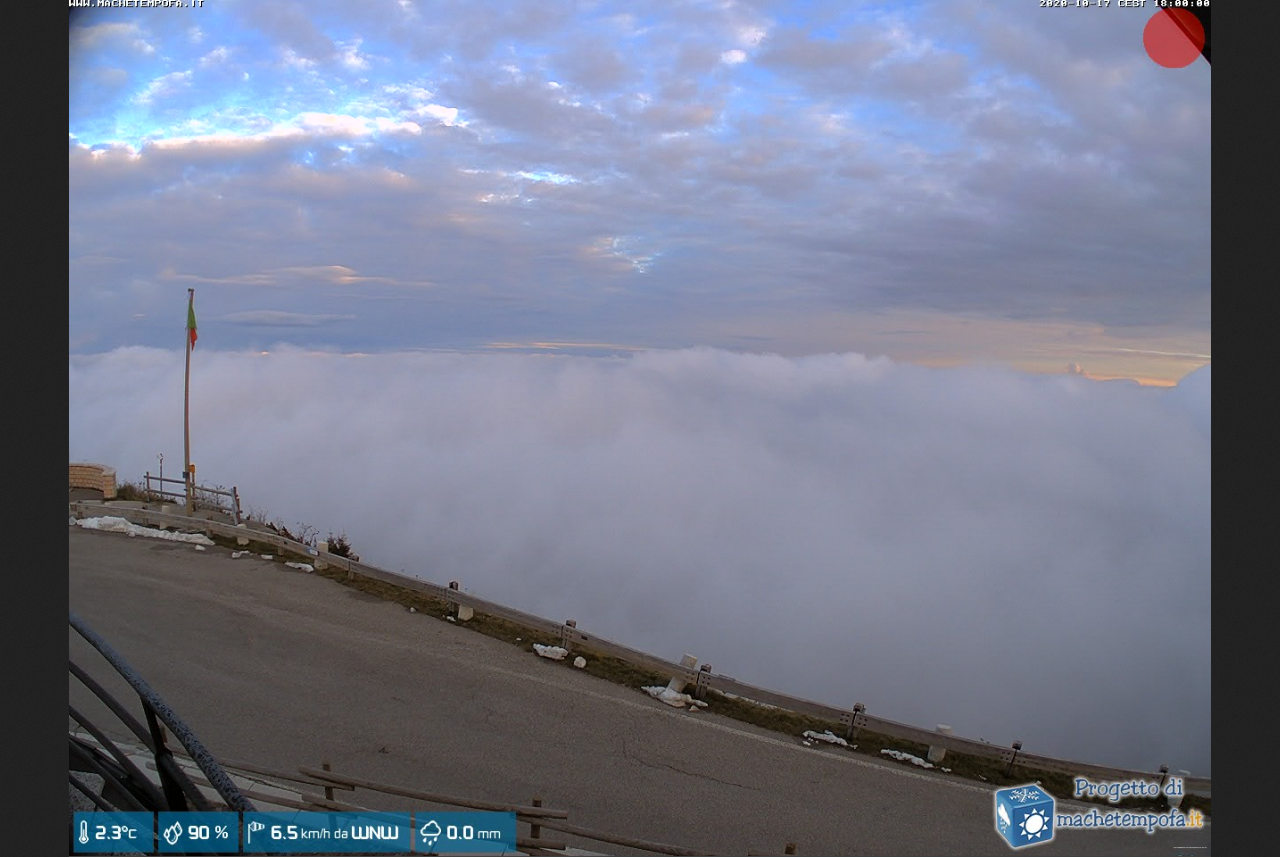no: (180, 282, 204, 355)
